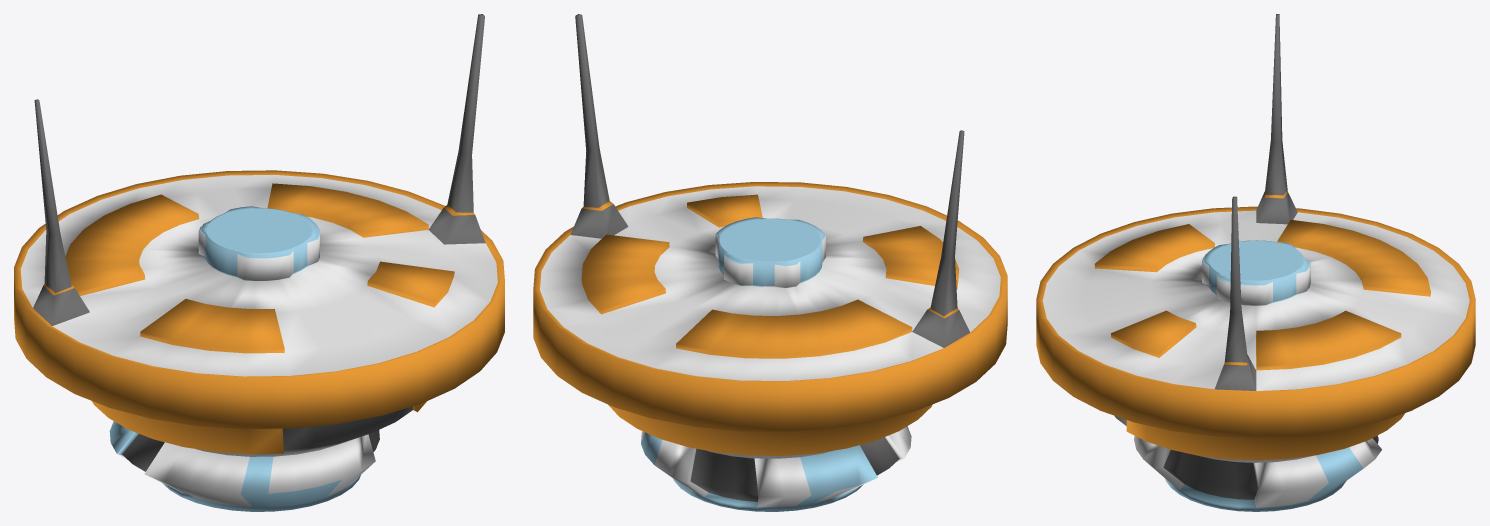
The model's file is head4.glb.
3 views of the same model, side by side, from view 1: azimuth 30°, elevation 25°; view 2: azimuth 150°, elevation 25°; view 3: azimuth 270°, elevation 25° (orthographic). The views are drawn at different scales.
Parts seen in each view (by area): view 1: body3; view 2: body3; view 3: body3.
Part boxes in pixels (x1,y1,x2,y2): body3: (14,14,504,511); body3: (533,14,1007,511); body3: (1036,14,1475,511).
Size of the model in its own units: 1.87 by 1.72 by 1.87.
